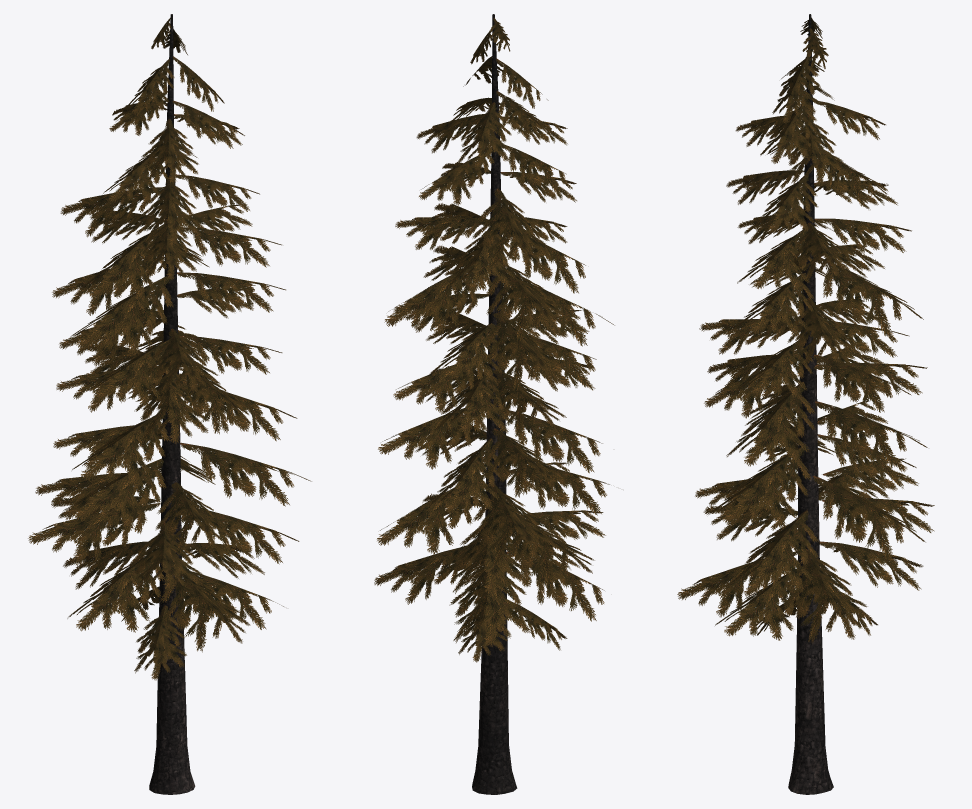
The model's file is pine_tree_n_1_3.glb.
3 views of the same model, side by side, from view 1: azimuth 30°, elevation 25°; view 2: azimuth 150°, elevation 25°; view 3: azimuth 270°, elevation 25° (orthographic).
Visible parts, largest first — view 1: pine_tree_n_1_3_branches, pine_tree_n_1_3; view 2: pine_tree_n_1_3_branches, pine_tree_n_1_3; view 3: pine_tree_n_1_3_branches, pine_tree_n_1_3.
Boxes of the visible parts, box(x1,y1,x2,y2) form: pine_tree_n_1_3_branches: box(28, 17, 311, 680); pine_tree_n_1_3: box(149, 14, 195, 794); pine_tree_n_1_3_branches: box(374, 17, 614, 662); pine_tree_n_1_3: box(472, 14, 517, 794); pine_tree_n_1_3_branches: box(677, 17, 934, 643); pine_tree_n_1_3: box(788, 14, 833, 794).
Size of the model in its own units: 2.03 by 5.73 by 1.92.
Materials: 2 (2 with a texture image).
